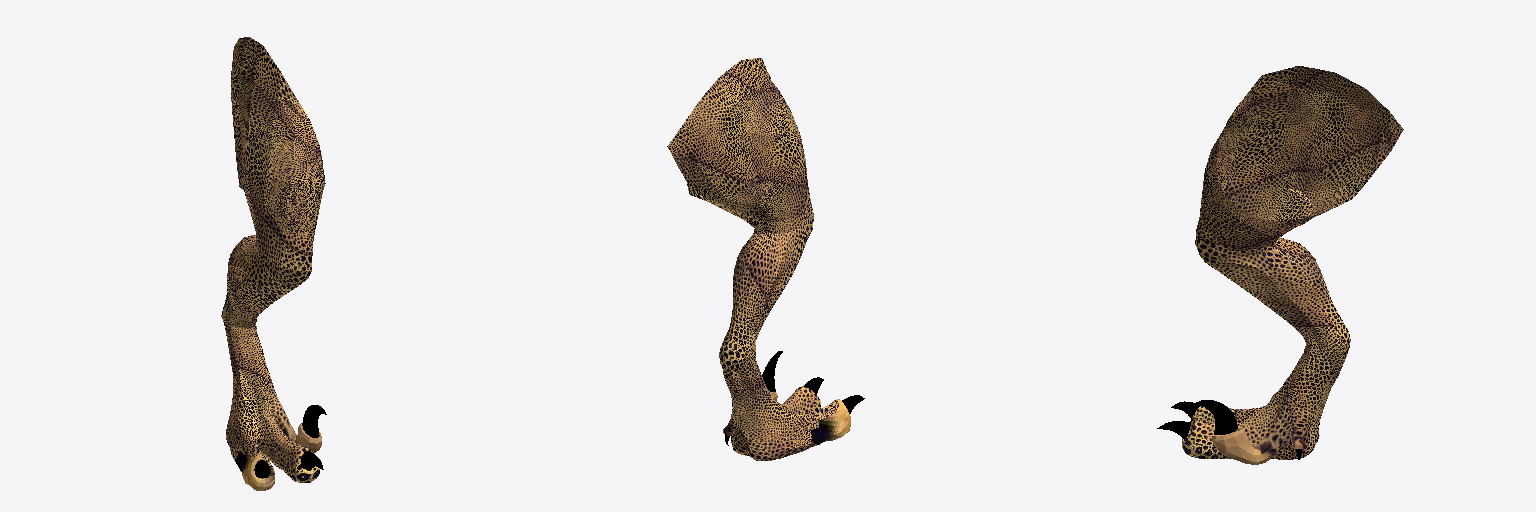
The picture shows the model from 3 angles: view 1: azimuth 30°, elevation 25°; view 2: azimuth 150°, elevation 25°; view 3: azimuth 270°, elevation 25°; orthographic projection.
Visible parts, largest first — view 1: Object004, Object006; view 2: Object004, Object006; view 3: Object004, Object006.
Boxes of the visible parts, x1,y1,x2,y2 form: Object004: [221, 37, 325, 490]; Object006: [254, 405, 326, 478]; Object004: [667, 58, 850, 460]; Object006: [725, 351, 864, 445]; Object004: [1182, 66, 1403, 464]; Object006: [1157, 400, 1301, 459].
Size of the model in its own units: 0.7055 by 3 by 1.69.
Materials: 2 (1 with a texture image).